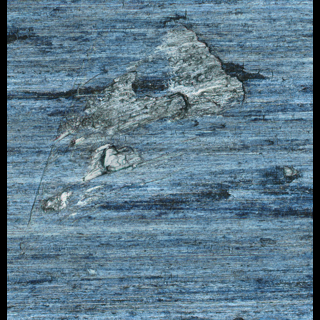d: (39, 12, 267, 220), (268, 163, 302, 187)
